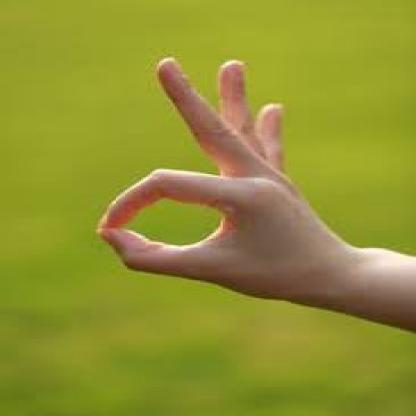ok: (94, 52, 318, 291)
